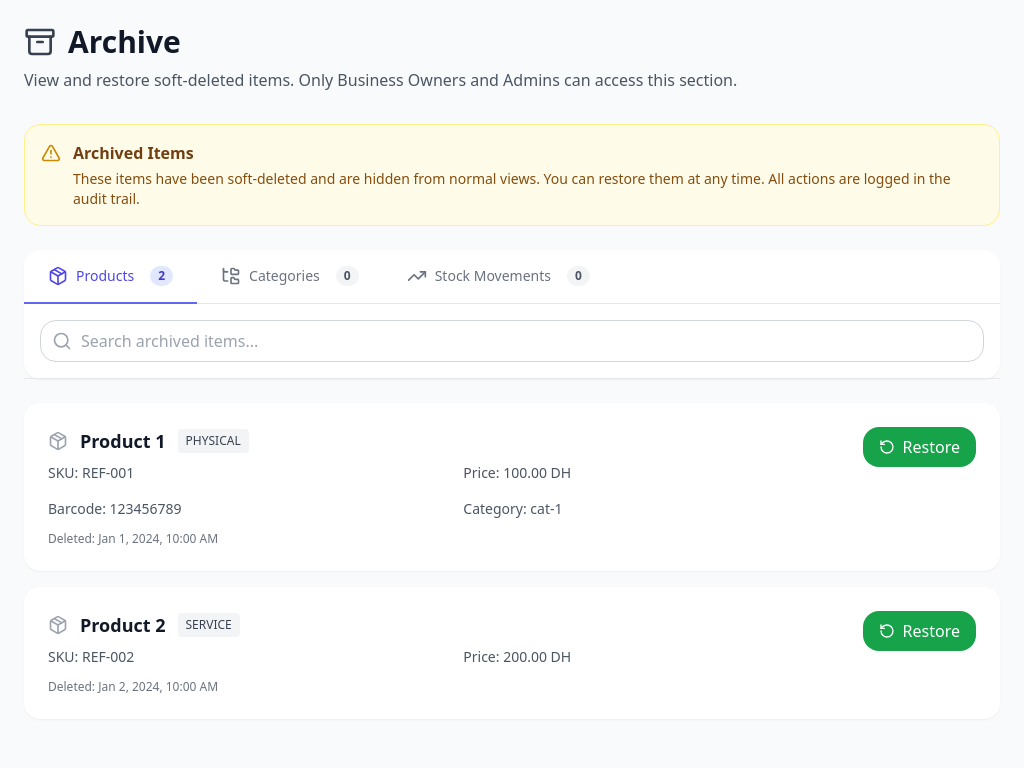
Test case: Archive › Search Functionality › should filter products by reference
Expected: the heading "Product 1" is shown, [80,427,166,455]
Type "REF-001" into the field with placeholder "Search archived items..." at (512, 341), box [40,320,984,362]
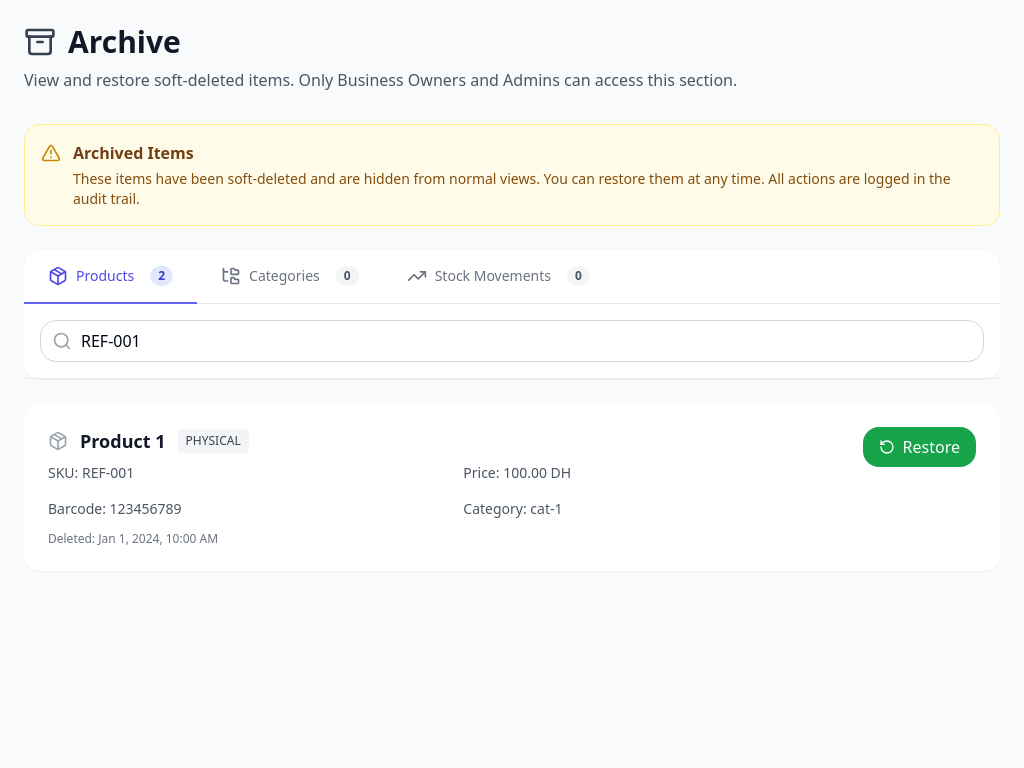
Expected: the heading "Product 1" is shown, [80,427,166,455]
Expected: the heading "Product 2" is gone
